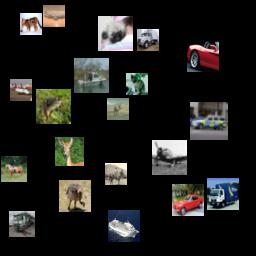airplane: (152, 140, 187, 175), (43, 5, 65, 27), (10, 79, 32, 101)
automobile: (190, 102, 228, 140), (187, 40, 219, 72), (172, 184, 204, 216)
bird: (59, 180, 91, 212)
cat: (126, 73, 148, 95), (20, 13, 42, 35)
deer: (55, 137, 84, 166), (107, 98, 129, 120)
dog: (98, 16, 133, 51)
frog: (36, 89, 71, 124)
ship: (74, 58, 109, 93), (108, 210, 140, 242)
truck: (207, 178, 239, 210), (9, 211, 35, 237), (137, 29, 159, 51)
